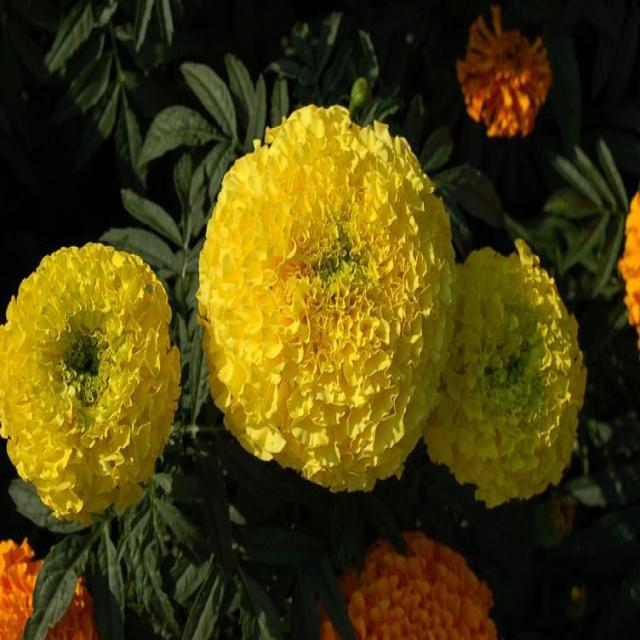marigold: (29, 31, 610, 626), (9, 172, 210, 627)
